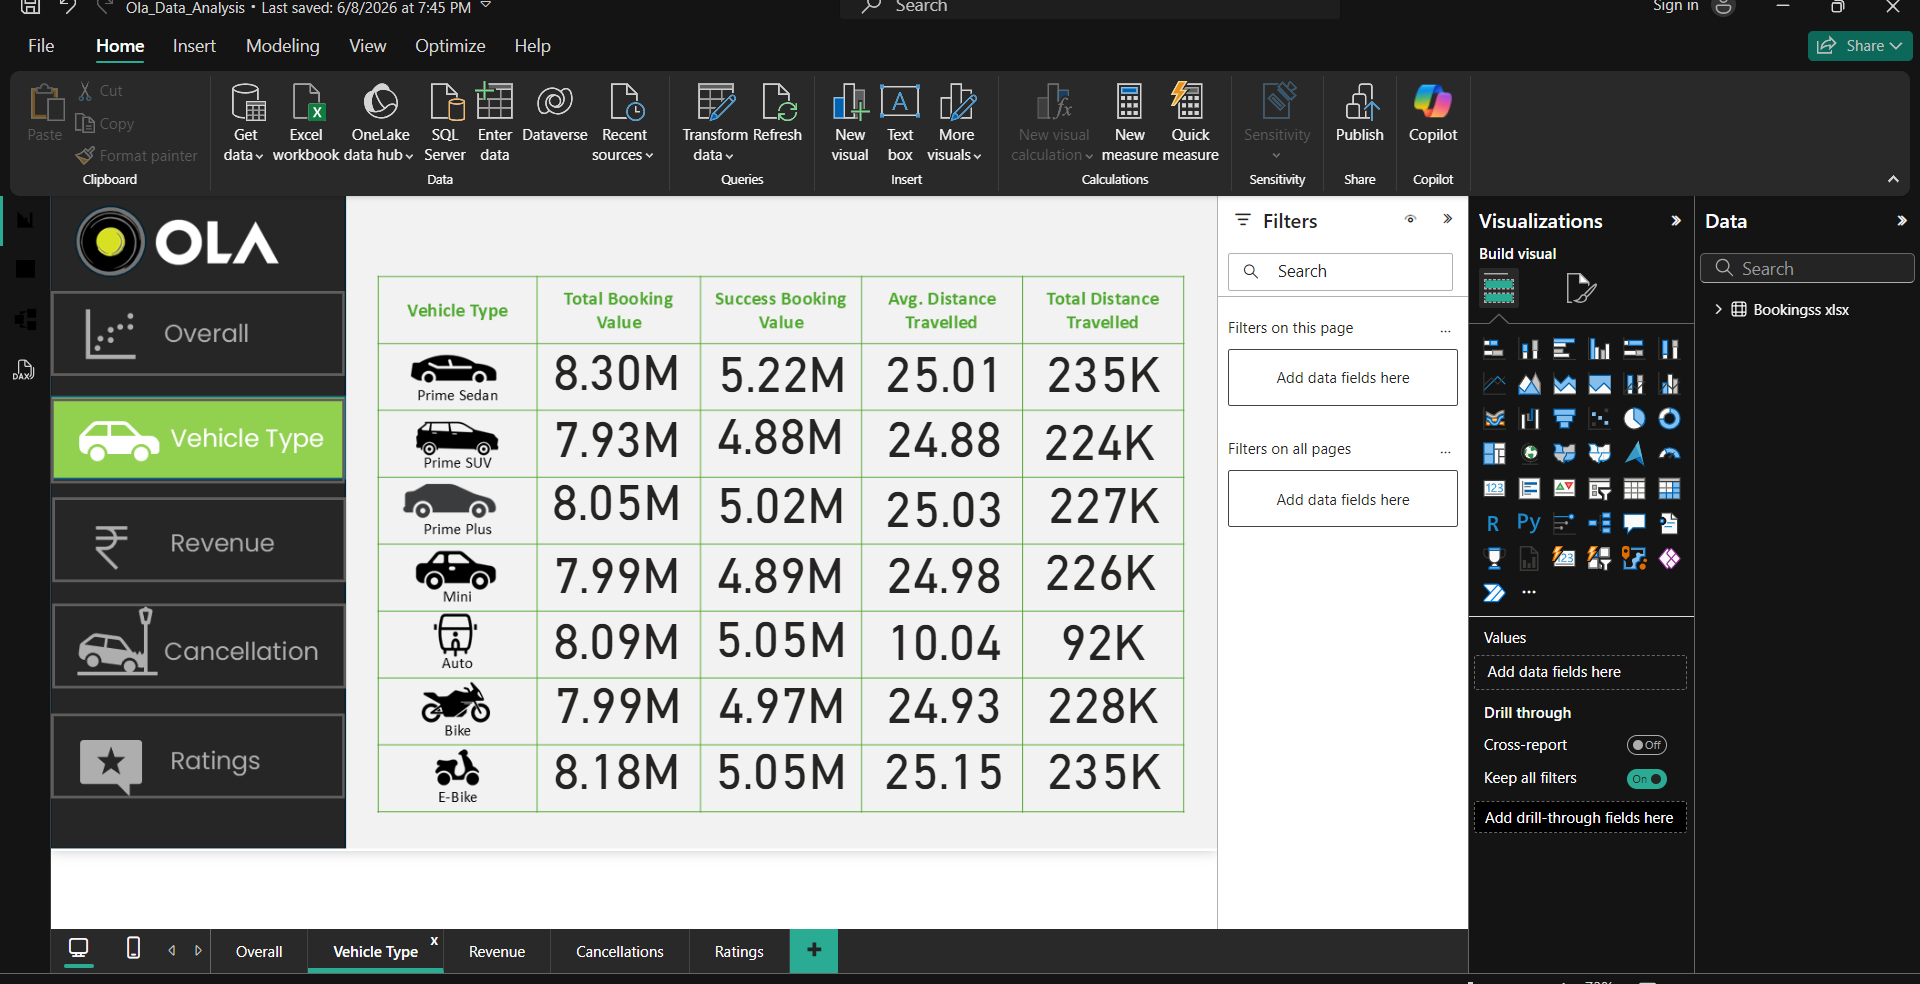

What the dashboard file says about the page in this screenshot:
{"tool":"powerbi","page":{"name":"Vehicle Type","canvas":[1280,720],"ordinal":1},"visuals":[{"type":"actionButton","box":[0,222.1,322.7,93.3],"z":0},{"type":"actionButton","box":[1.2,331.3,322.7,93.3],"z":1000},{"type":"actionButton","box":[1.2,447.9,322.7,93.3],"z":2000},{"type":"actionButton","box":[0,568.1,322.7,93.3],"z":3000},{"type":"actionButton","box":[0,104.3,322.7,93.3],"z":4000},{"type":"card","fields":{"Values":["Sum(Bookingss xlsx.Booking_Value)"]},"box":[531,161.9,179.8,72.7],"z":5000},{"type":"card","fields":{"Values":["Sum(Bookingss xlsx.Booking_Value)"]},"box":[531,234.6,179.8,72.7],"z":6000},{"type":"card","fields":{"Values":["Sum(Bookingss xlsx.Booking_Value)"]},"box":[531,304.6,179.8,72.7],"z":7000},{"type":"card","fields":{"Values":["Sum(Bookingss xlsx.Booking_Value)"]},"box":[531,384.2,179.8,72.7],"z":8000},{"type":"card","fields":{"Values":["Sum(Bookingss xlsx.Booking_Value)"]},"box":[531,456.9,179.8,72.7],"z":9000},{"type":"card","fields":{"Values":["Sum(Bookingss xlsx.Booking_Value)"]},"box":[532.4,526.9,179.8,72.7],"z":10000},{"type":"card","fields":{"Values":["Sum(Bookingss xlsx.Booking_Value)"]},"box":[531,599.7,179.8,72.7],"z":11000},{"type":"card","fields":{"Values":["Sum(Bookingss xlsx.Booking_Value)"]},"box":[710.8,599.7,179.8,72.7],"z":12000},{"type":"card","fields":{"Values":["Sum(Bookingss xlsx.Booking_Value)"]},"box":[712.2,526.9,179.8,72.7],"z":13000},{"type":"card","fields":{"Values":["Sum(Bookingss xlsx.Booking_Value)"]},"box":[710.8,454.2,179.8,72.7],"z":14000},{"type":"card","fields":{"Values":["Sum(Bookingss xlsx.Booking_Value)"]},"box":[710.8,384.2,179.8,72.7],"z":15000},{"type":"card","fields":{"Values":["Sum(Bookingss xlsx.Booking_Value)"]},"box":[710.8,307.4,179.8,72.7],"z":16000},{"type":"card","fields":{"Values":["Sum(Bookingss xlsx.Booking_Value)"]},"box":[710.8,231.9,179.8,72.7],"z":17000},{"type":"card","fields":{"Values":["Sum(Bookingss xlsx.Booking_Value)"]},"box":[712.2,163.3,179.8,72.7],"z":18000},{"type":"card","fields":{"Values":["Avg(Bookingss xlsx.Ride_Distance)"]},"box":[890.6,599.7,179.8,72.7],"z":19000},{"type":"card","fields":{"Values":["Avg(Bookingss xlsx.Ride_Distance)"]},"box":[890.6,526.9,179.8,72.7],"z":20000},{"type":"card","fields":{"Values":["Avg(Bookingss xlsx.Ride_Distance)"]},"box":[890.6,458.3,179.8,72.7],"z":21000},{"type":"card","fields":{"Values":["Avg(Bookingss xlsx.Ride_Distance)"]},"box":[890.6,384.2,179.8,72.7],"z":22000},{"type":"card","fields":{"Values":["Avg(Bookingss xlsx.Ride_Distance)"]},"box":[890.6,311.5,179.8,72.7],"z":23000},{"type":"card","fields":{"Values":["Avg(Bookingss xlsx.Ride_Distance)"]},"box":[890.6,234.6,179.8,72.7],"z":24000},{"type":"card","fields":{"Values":["Avg(Bookingss xlsx.Ride_Distance)"]},"box":[890.6,163.3,179.8,72.7],"z":25000},{"type":"card","fields":{"Values":["Sum(Bookingss xlsx.Ride_Distance)"]},"box":[1066.2,599.7,179.8,72.7],"z":26000},{"type":"card","fields":{"Values":["Sum(Bookingss xlsx.Ride_Distance)"]},"box":[1064.8,526.9,179.8,72.7],"z":27000},{"type":"card","fields":{"Values":["Sum(Bookingss xlsx.Ride_Distance)"]},"box":[1064.8,458.3,179.8,72.7],"z":28000},{"type":"card","fields":{"Values":["Sum(Bookingss xlsx.Ride_Distance)"]},"box":[1062.1,381.5,179.8,72.7],"z":29000},{"type":"card","fields":{"Values":["Sum(Bookingss xlsx.Ride_Distance)"]},"box":[1066.2,307.4,179.8,72.7],"z":30000},{"type":"card","fields":{"Values":["Sum(Bookingss xlsx.Ride_Distance)"]},"box":[1060.7,238.8,179.8,72.7],"z":31000},{"type":"card","fields":{"Values":["Sum(Bookingss xlsx.Ride_Distance)"]},"box":[1070.3,163.3,170.2,72.7],"z":32000}]}

Visuals, with their boxes on the page's 1280x720 design canvas (x1, y1, x2, y2). These are canvas units, not pixel positions in the 1920x984 screenshot, which may show the page scaled, cropped or inside an application window:
actionButton: [0, 222, 323, 315]
actionButton: [1, 331, 324, 425]
actionButton: [1, 448, 324, 541]
actionButton: [0, 568, 323, 661]
actionButton: [0, 104, 323, 198]
card - Sum(Bookingss xlsx.Booking_Value): [531, 162, 711, 235]
card - Sum(Bookingss xlsx.Booking_Value): [531, 235, 711, 307]
card - Sum(Bookingss xlsx.Booking_Value): [531, 305, 711, 377]
card - Sum(Bookingss xlsx.Booking_Value): [531, 384, 711, 457]
card - Sum(Bookingss xlsx.Booking_Value): [531, 457, 711, 530]
card - Sum(Bookingss xlsx.Booking_Value): [532, 527, 712, 600]
card - Sum(Bookingss xlsx.Booking_Value): [531, 600, 711, 672]
card - Sum(Bookingss xlsx.Booking_Value): [711, 600, 891, 672]
card - Sum(Bookingss xlsx.Booking_Value): [712, 527, 892, 600]
card - Sum(Bookingss xlsx.Booking_Value): [711, 454, 891, 527]
card - Sum(Bookingss xlsx.Booking_Value): [711, 384, 891, 457]
card - Sum(Bookingss xlsx.Booking_Value): [711, 307, 891, 380]
card - Sum(Bookingss xlsx.Booking_Value): [711, 232, 891, 305]
card - Sum(Bookingss xlsx.Booking_Value): [712, 163, 892, 236]
card - Avg(Bookingss xlsx.Ride_Distance): [891, 600, 1070, 672]
card - Avg(Bookingss xlsx.Ride_Distance): [891, 527, 1070, 600]
card - Avg(Bookingss xlsx.Ride_Distance): [891, 458, 1070, 531]
card - Avg(Bookingss xlsx.Ride_Distance): [891, 384, 1070, 457]
card - Avg(Bookingss xlsx.Ride_Distance): [891, 312, 1070, 384]
card - Avg(Bookingss xlsx.Ride_Distance): [891, 235, 1070, 307]
card - Avg(Bookingss xlsx.Ride_Distance): [891, 163, 1070, 236]
card - Sum(Bookingss xlsx.Ride_Distance): [1066, 600, 1246, 672]
card - Sum(Bookingss xlsx.Ride_Distance): [1065, 527, 1245, 600]
card - Sum(Bookingss xlsx.Ride_Distance): [1065, 458, 1245, 531]
card - Sum(Bookingss xlsx.Ride_Distance): [1062, 382, 1242, 454]
card - Sum(Bookingss xlsx.Ride_Distance): [1066, 307, 1246, 380]
card - Sum(Bookingss xlsx.Ride_Distance): [1061, 239, 1240, 312]
card - Sum(Bookingss xlsx.Ride_Distance): [1070, 163, 1240, 236]
